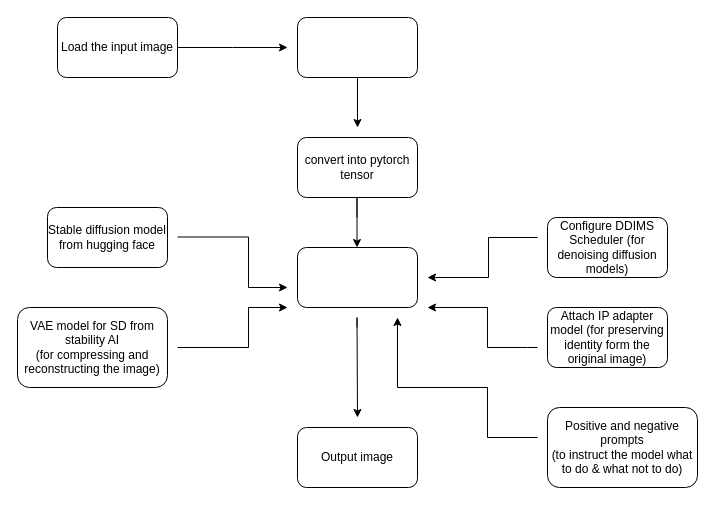
The diagram is 715 pixels wide and 505 high, and some of its shapes have lost their labels. Each missing label, with the centre of its shape:
"LLM (stable diffusion)" goes at pixel 357 277.
"Load the buffalo model (helpful for embedding extraction)" goes at pixel 357 47.
